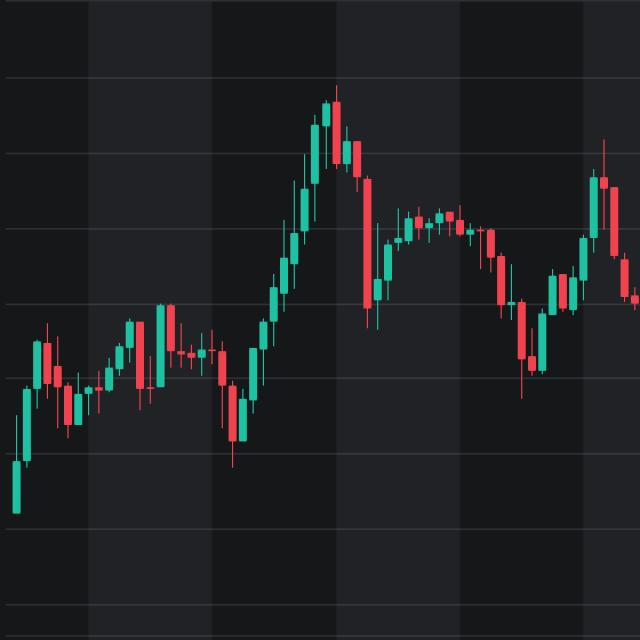Resistance-breakout: (76, 95, 344, 461)
